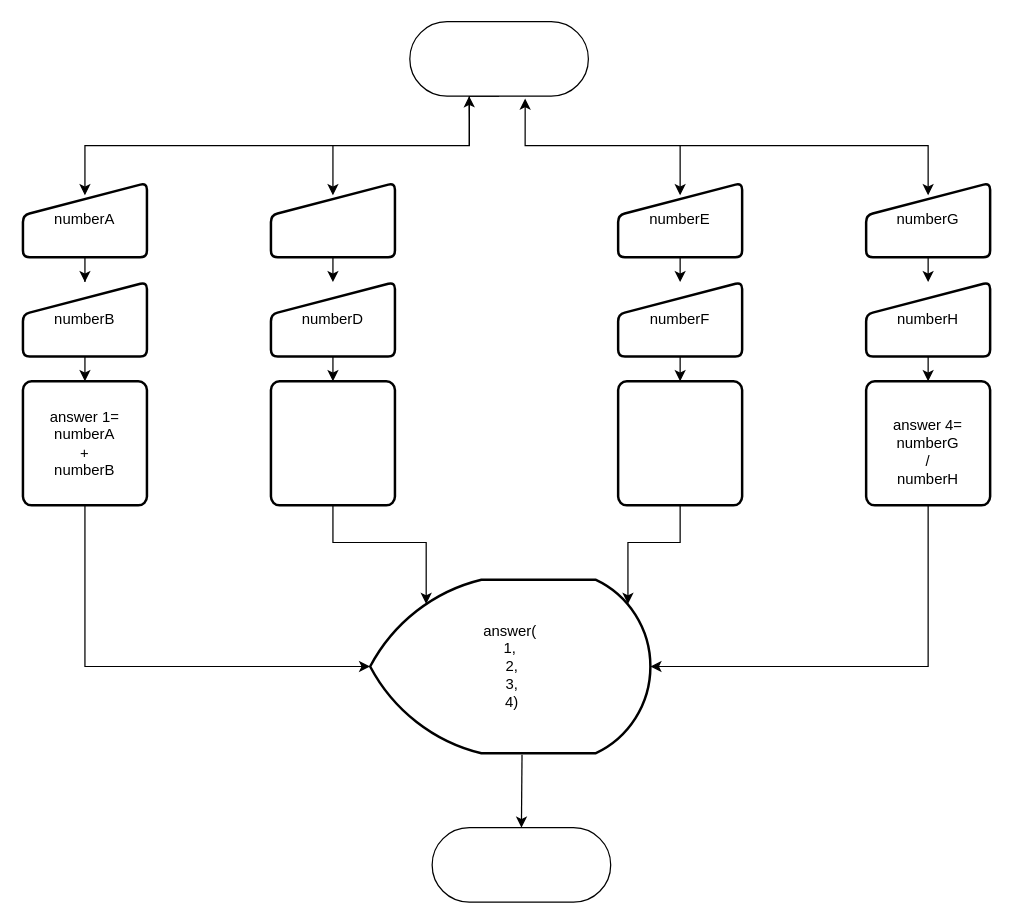
Image size: 1012x924. Some labels were removed from this diagram. The shapes that lost their labels are listed below. From the top down, each one's centre as x and y in pixels, then its label:
(x=498, y=58): start
(x=332, y=219): numberC
(x=332, y=442): answer 2= numberC - numberD
(x=679, y=442): answer 3= numberE * numberF
(x=521, y=864): end
